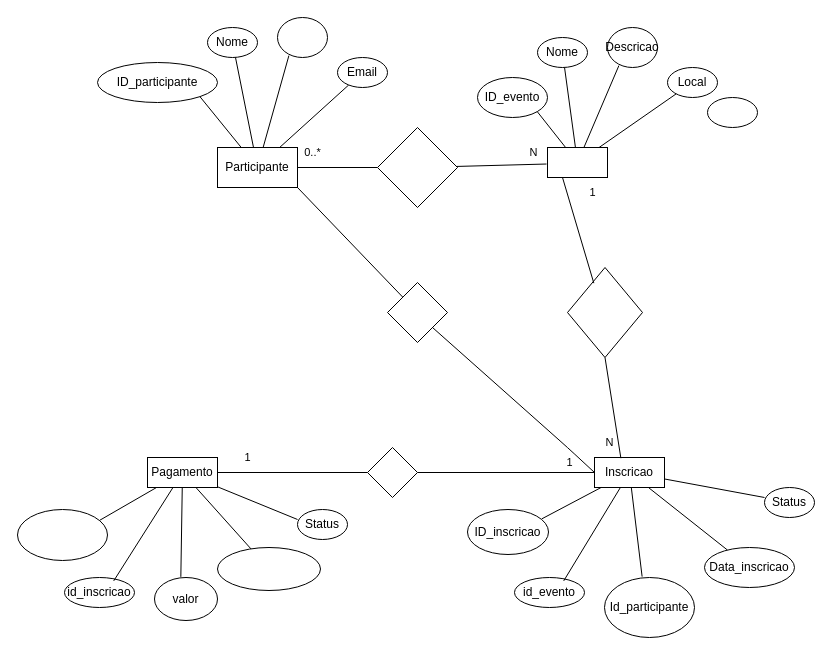
The diagram is 832 pixels wide and 655 high, and some of its shapes have lost their labels. Here are the shapes that lost their labels. From the top down, the box of each, then its label:
(276, 16, 328, 58): Telefone
(706, 96, 758, 128): Data
(376, 126, 458, 208): Participa de
(546, 146, 608, 178): Evento
(386, 282, 448, 342): Feita por
(566, 266, 642, 358): Pertence a
(366, 446, 418, 498): gera
(16, 508, 108, 560): ID_pagamento
(216, 546, 320, 590): data_pagamento
